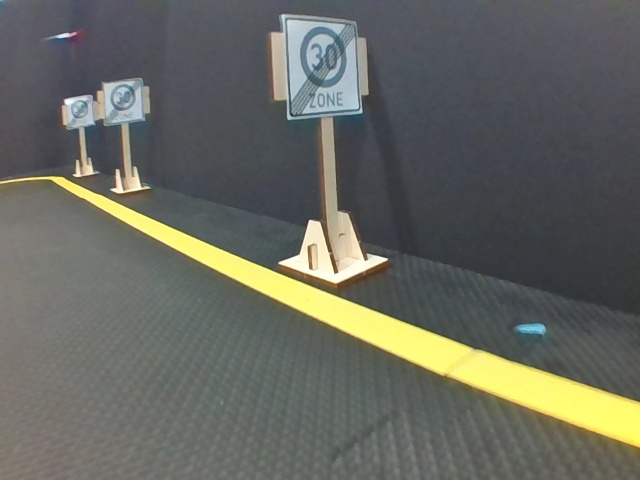no30: (284, 14, 361, 113), (100, 78, 143, 121), (65, 93, 91, 128)
